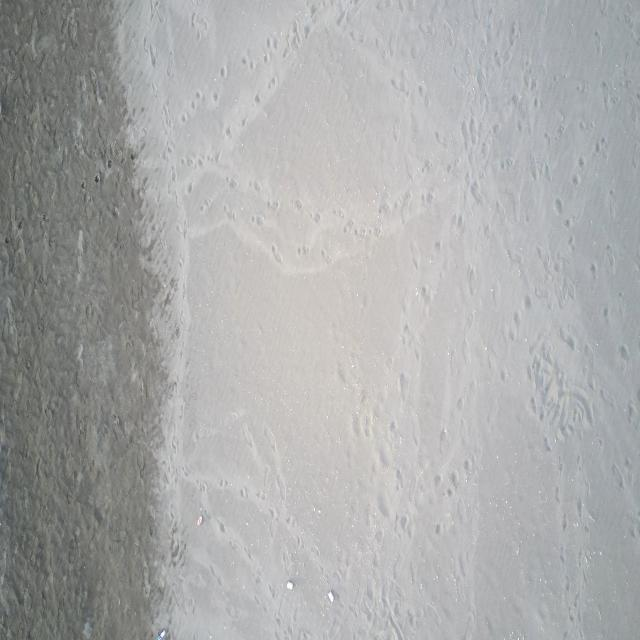Garbage: (155, 628, 167, 639), (327, 590, 333, 602), (196, 513, 201, 526), (286, 580, 292, 590)
